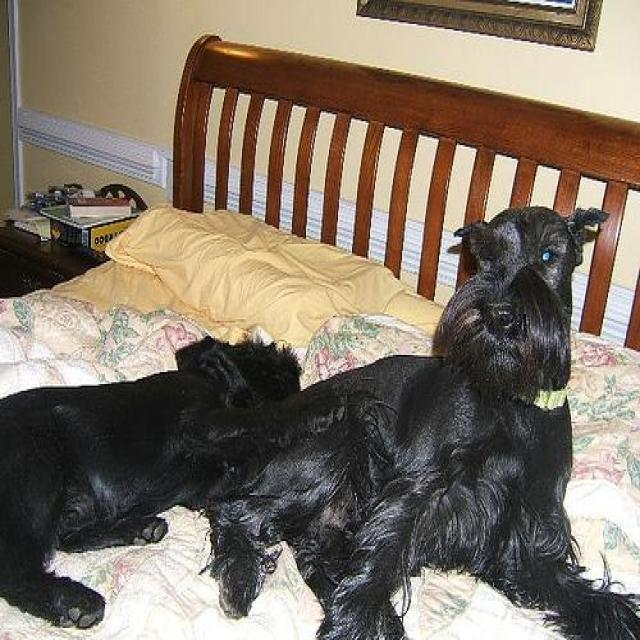standard_schnauzer: (197, 205, 639, 638), (2, 340, 304, 633)
